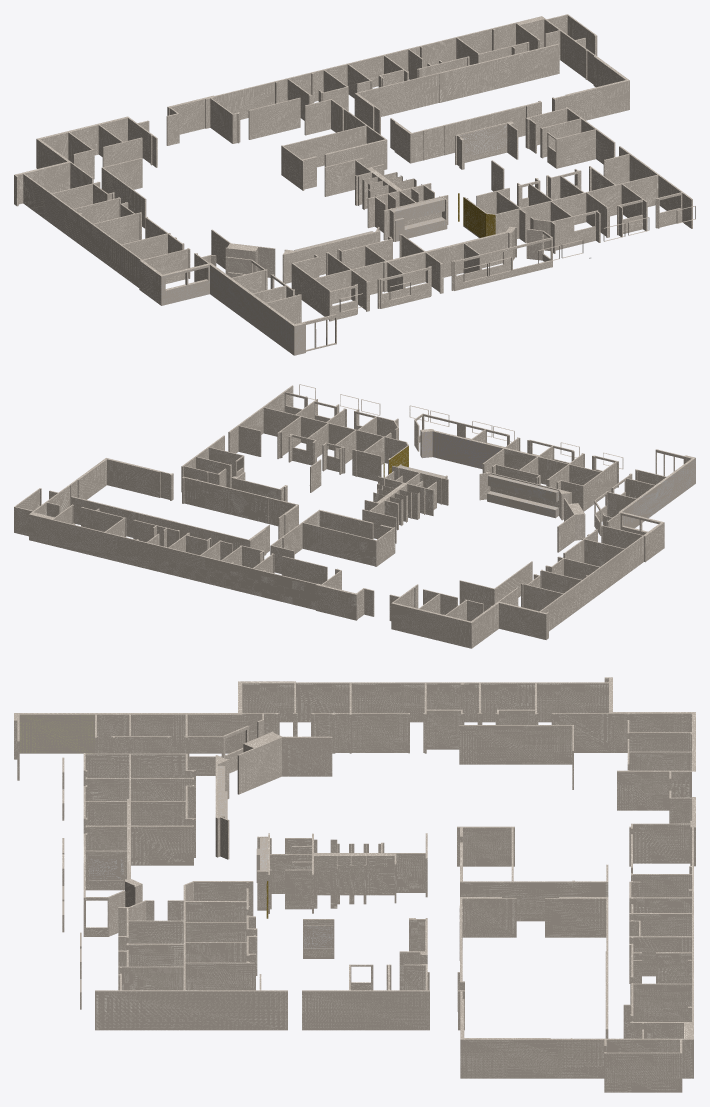
File: willow_collision.dae
The picture shows the model from 3 angles, top to bottom: view 1: azimuth 30°, elevation 25°; view 2: azimuth 150°, elevation 25°; view 3: azimuth 270°, elevation 25°; orthographic projection. The views are drawn at different scales.
Visible parts, largest first — view 1: SketchUp_015, SketchUp_006, SketchUp_024, SketchUp_028, SketchUp_005, SketchUp_004, SketchUp_017, SketchUp_029, SketchUp_016, SketchUp_014, SketchUp_038, SketchUp_036 (+8 smaller); view 2: SketchUp_006, SketchUp_015, SketchUp_028, SketchUp_024, SketchUp_004, SketchUp_017, SketchUp_014, SketchUp_005, SketchUp_029, SketchUp_026, SketchUp_016, SketchUp_038 (+7 smaller); view 3: SketchUp_015, SketchUp_006, SketchUp_028, SketchUp_024, SketchUp_017, SketchUp_029, SketchUp_004, SketchUp_038, SketchUp_036, SketchUp_021, SketchUp_005, SketchUp_014 (+4 smaller).
Boxes of the visible parts, x1,y1,x2,y2 form: SketchUp_015: [14, 116, 336, 351]; SketchUp_006: [166, 14, 629, 145]; SketchUp_024: [291, 226, 552, 321]; SketchUp_028: [463, 146, 692, 252]; SketchUp_005: [354, 43, 559, 134]; SketchUp_004: [281, 99, 387, 190]; SketchUp_017: [324, 157, 448, 241]; SketchUp_029: [525, 107, 615, 167]; SketchUp_016: [161, 265, 305, 355]; SketchUp_014: [390, 101, 541, 163]; SketchUp_038: [101, 158, 146, 228]; SketchUp_036: [211, 229, 275, 277]; SketchUp_006: [14, 458, 374, 620]; SketchUp_015: [389, 449, 695, 648]; SketchUp_028: [228, 385, 408, 480]; SketchUp_024: [414, 413, 618, 511]; SketchUp_004: [270, 509, 395, 573]; SketchUp_017: [362, 464, 448, 543]; SketchUp_014: [182, 476, 298, 539]; SketchUp_005: [71, 496, 269, 555]; SketchUp_029: [181, 435, 244, 491]; SketchUp_026: [422, 431, 502, 469]; SketchUp_016: [622, 458, 695, 528]; SketchUp_038: [459, 561, 532, 611]; SketchUp_015: [14, 677, 695, 810]; SketchUp_006: [458, 790, 695, 1092]; SketchUp_028: [95, 881, 287, 1030]; SketchUp_024: [83, 753, 195, 936]; SketchUp_017: [257, 833, 427, 913]; SketchUp_029: [302, 964, 429, 1030]; SketchUp_004: [457, 826, 608, 921]; SketchUp_038: [459, 725, 573, 789]; SketchUp_036: [237, 731, 332, 794]; SketchUp_021: [19, 714, 94, 753]; SketchUp_005: [545, 897, 608, 1038]; SketchUp_014: [457, 897, 516, 1011].
Size of the model in its own units: 58.63 by 44.93 by 2.84.
